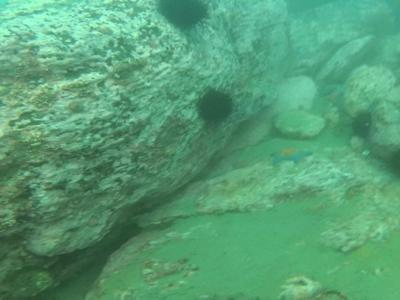urchin: (157, 2, 215, 34), (195, 90, 235, 126)
